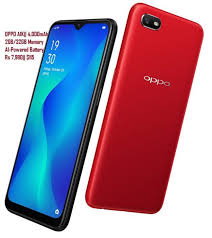oppo: (84, 1, 205, 219)
